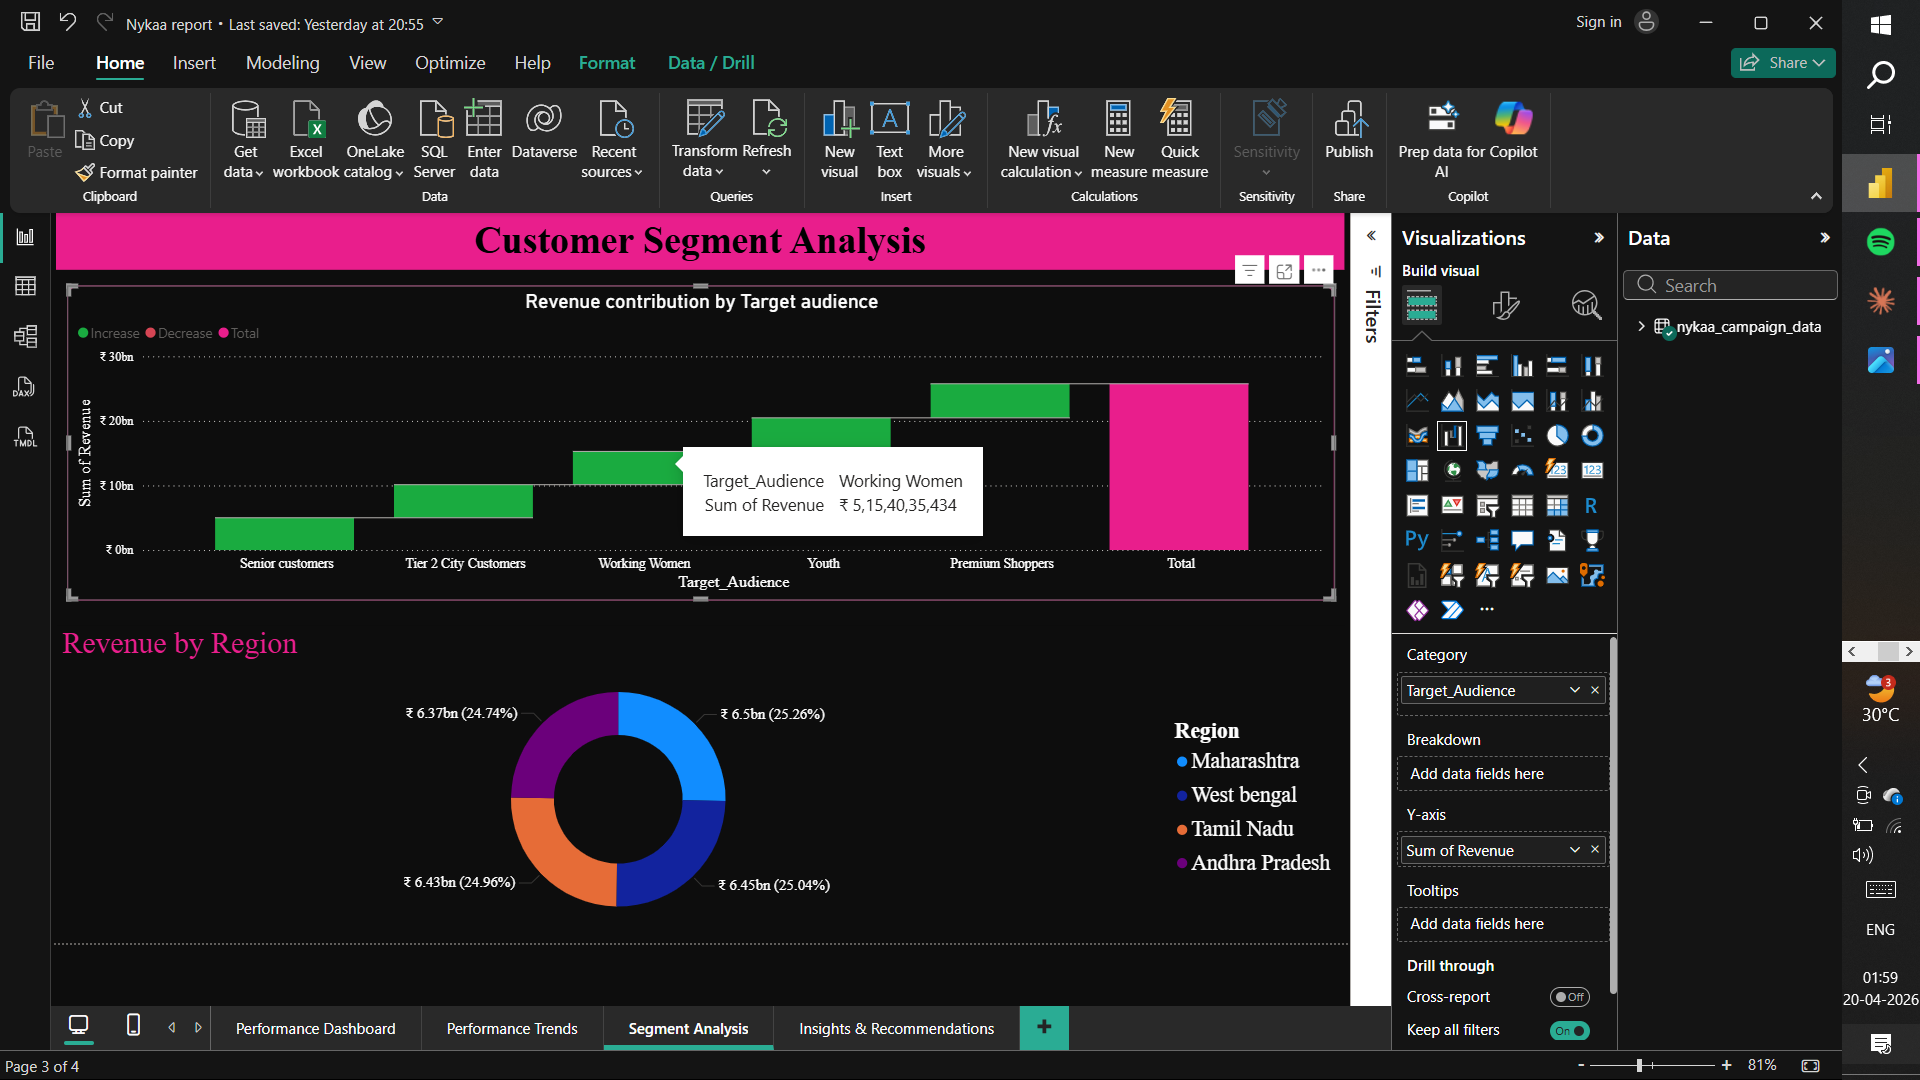

This screenshot's page, from the dashboard's own definition file:
{"tool":"powerbi","page":{"name":"Segment Analysis","canvas":[1280,720],"ordinal":2},"visuals":[{"type":"textbox","box":[5.3,0,1269.4,55.8],"z":0},{"type":"waterfallChart","title":"Revenue contribution by Target audience","fields":{"Category":["nykaa_campaign_data.Target_Audience"],"Y":["Sum(nykaa_campaign_data.Revenue)"]},"box":[16,71.4,1249,310.4],"z":1000},{"type":"donutChart","title":"Revenue by Region","fields":{"Category":["nykaa_campaign_data.Region"],"Y":["Sum(nykaa_campaign_data.Revenue)"]},"box":[6,406,1269,310],"z":2000}]}

Visuals, with their boxes on the page's 1280x720 design canvas (x1, y1, x2, y2). These are canvas units, not pixel positions in the 1920x1080 screenshot, which may show the page scaled, cropped or inside an application window:
textbox: box=[5, 0, 1275, 56]
"Revenue contribution by Target audience" waterfallChart: box=[16, 71, 1265, 382]
"Revenue by Region" donutChart: box=[6, 406, 1275, 716]
